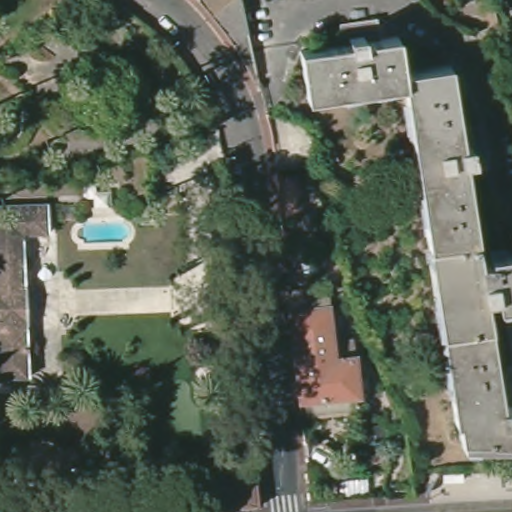pool: (76, 217, 131, 246)
